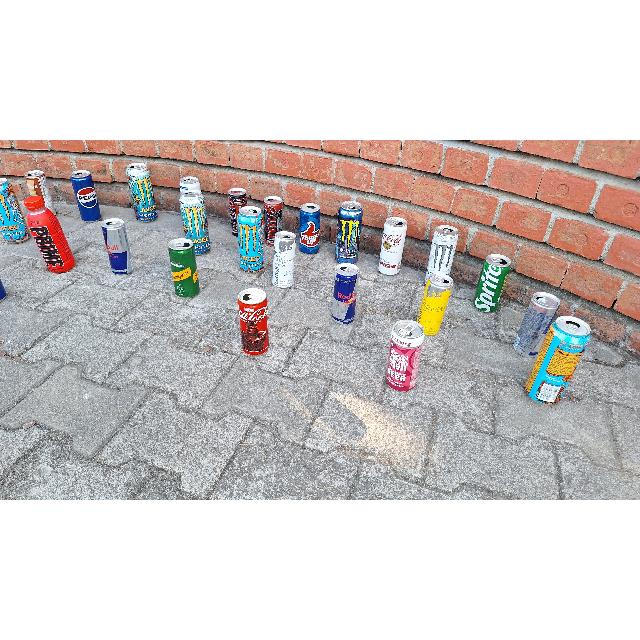Coca Cola - Marvel: (237, 290, 269, 356)
Coca Cola Plus: (379, 221, 409, 277)
Coolberg: (390, 324, 422, 392)
Monster Aussie Lemonade: (124, 162, 158, 222), (178, 196, 210, 244)
Monster LH44: (334, 200, 362, 264)
Monster Mango Loco: (526, 322, 590, 402), (236, 208, 264, 276), (0, 178, 28, 244)
Nescafe Classic Iced Latte: (22, 169, 52, 195)
Pepsi: (72, 170, 102, 222)
Prime - Shitass: (24, 198, 74, 272)
Redbull: (102, 218, 134, 276), (515, 300, 551, 350), (333, 268, 357, 322)
Redbull Summer Edition: (272, 234, 296, 288)
Redbull Yellow Edition: (420, 274, 446, 334)
Schweppes: (166, 242, 202, 300)
Sprite: (472, 258, 516, 312)
Thums Up: (296, 203, 326, 255)
White Monster: (429, 224, 461, 274)
